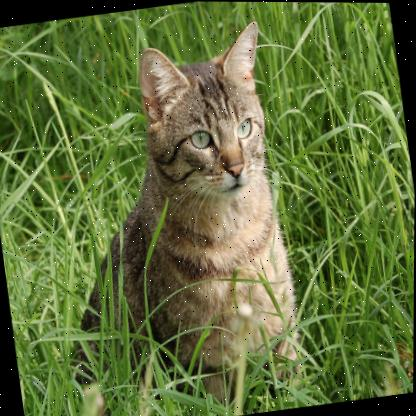cat: (106, 31, 298, 343)
